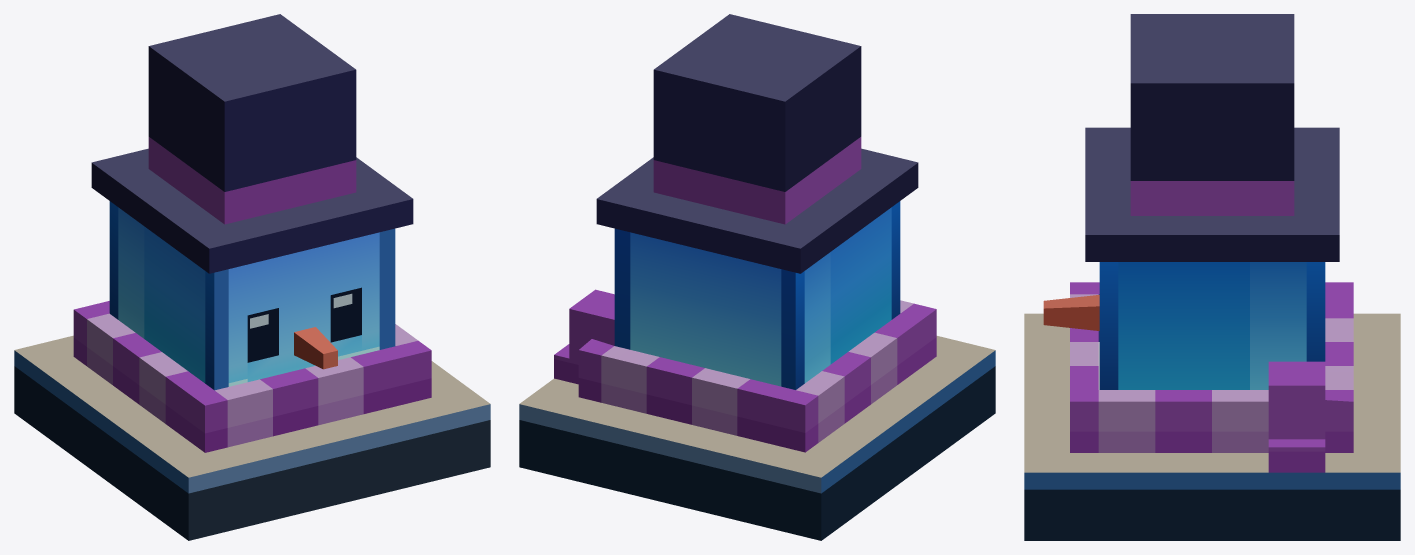
Rendered from Tower_Ice_L4.fbx.
3 renders of one model, left to right at view 1: azimuth 30°, elevation 25°; view 2: azimuth 150°, elevation 25°; view 3: azimuth 270°, elevation 25°, orthographic. The views are drawn at different scales.
Visible parts, largest first — view 1: Hat, Base, Body, Scarf, Nose; view 2: Hat, Base, Body, Scarf; view 3: Hat, Base, Body, Scarf, Nose.
Part boxes in pixels (x1=…): Hat: x1=91, y1=14, x2=413, y2=273; Base: x1=14, y1=335, x2=490, y2=540; Body: x1=109, y1=201, x2=395, y2=390; Scarf: x1=73, y1=301, x2=431, y2=452; Nose: x1=294, y1=327, x2=337, y2=369; Hat: x1=596, y1=14, x2=918, y2=273; Base: x1=519, y1=336, x2=995, y2=540; Body: x1=614, y1=201, x2=900, y2=389; Scarf: x1=554, y1=289, x2=936, y2=452; Hat: x1=1085, y1=14, x2=1339, y2=261; Base: x1=1024, y1=313, x2=1400, y2=540; Body: x1=1099, y1=262, x2=1325, y2=389; Scarf: x1=1070, y1=282, x2=1353, y2=472; Nose: x1=1043, y1=295, x2=1099, y2=330.
Bounding box in the file's own units: 100 × 121 × 100.
